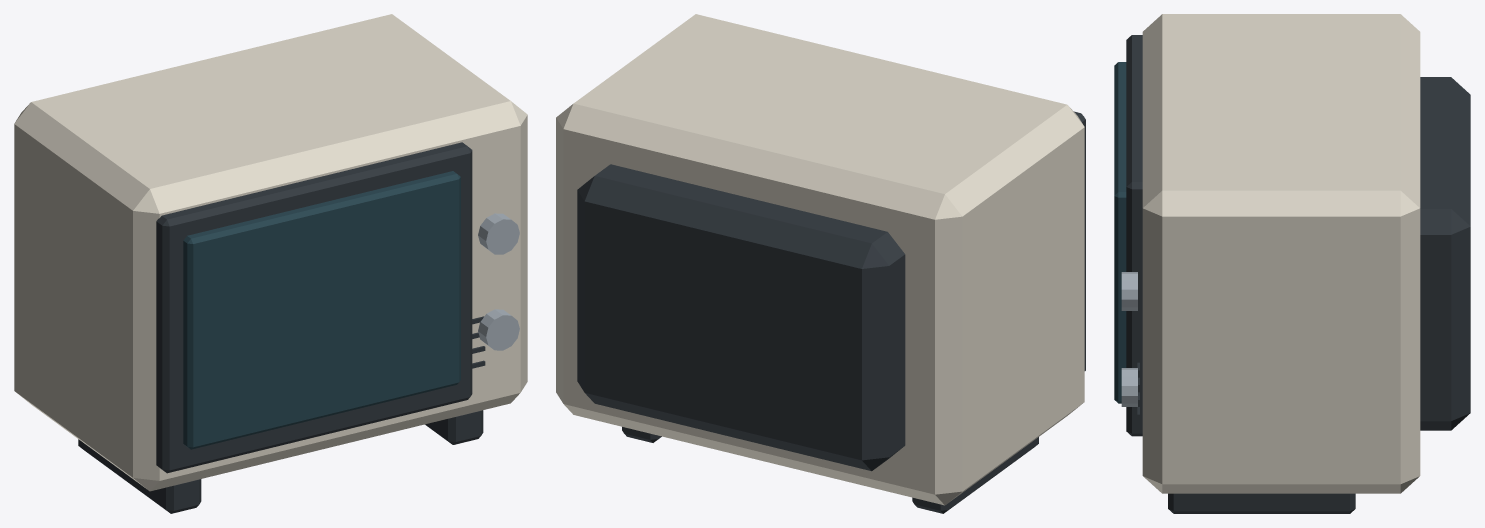
The model's file is TV_Retro.fbx.
The picture shows the model from 3 angles, left to right: view 1: azimuth 30°, elevation 25°; view 2: azimuth 150°, elevation 25°; view 3: azimuth 270°, elevation 25°; orthographic projection. The views are drawn at different scales.
Visible parts, largest first — view 1: TV_Retro; view 2: TV_Retro; view 3: TV_Retro.
Part boxes in pixels (x1,y1,x2,y2): TV_Retro: (14,14,527,513); TV_Retro: (556,14,1085,513); TV_Retro: (1114,14,1470,513).
Size of the model in its own units: 280 by 228 by 219.
